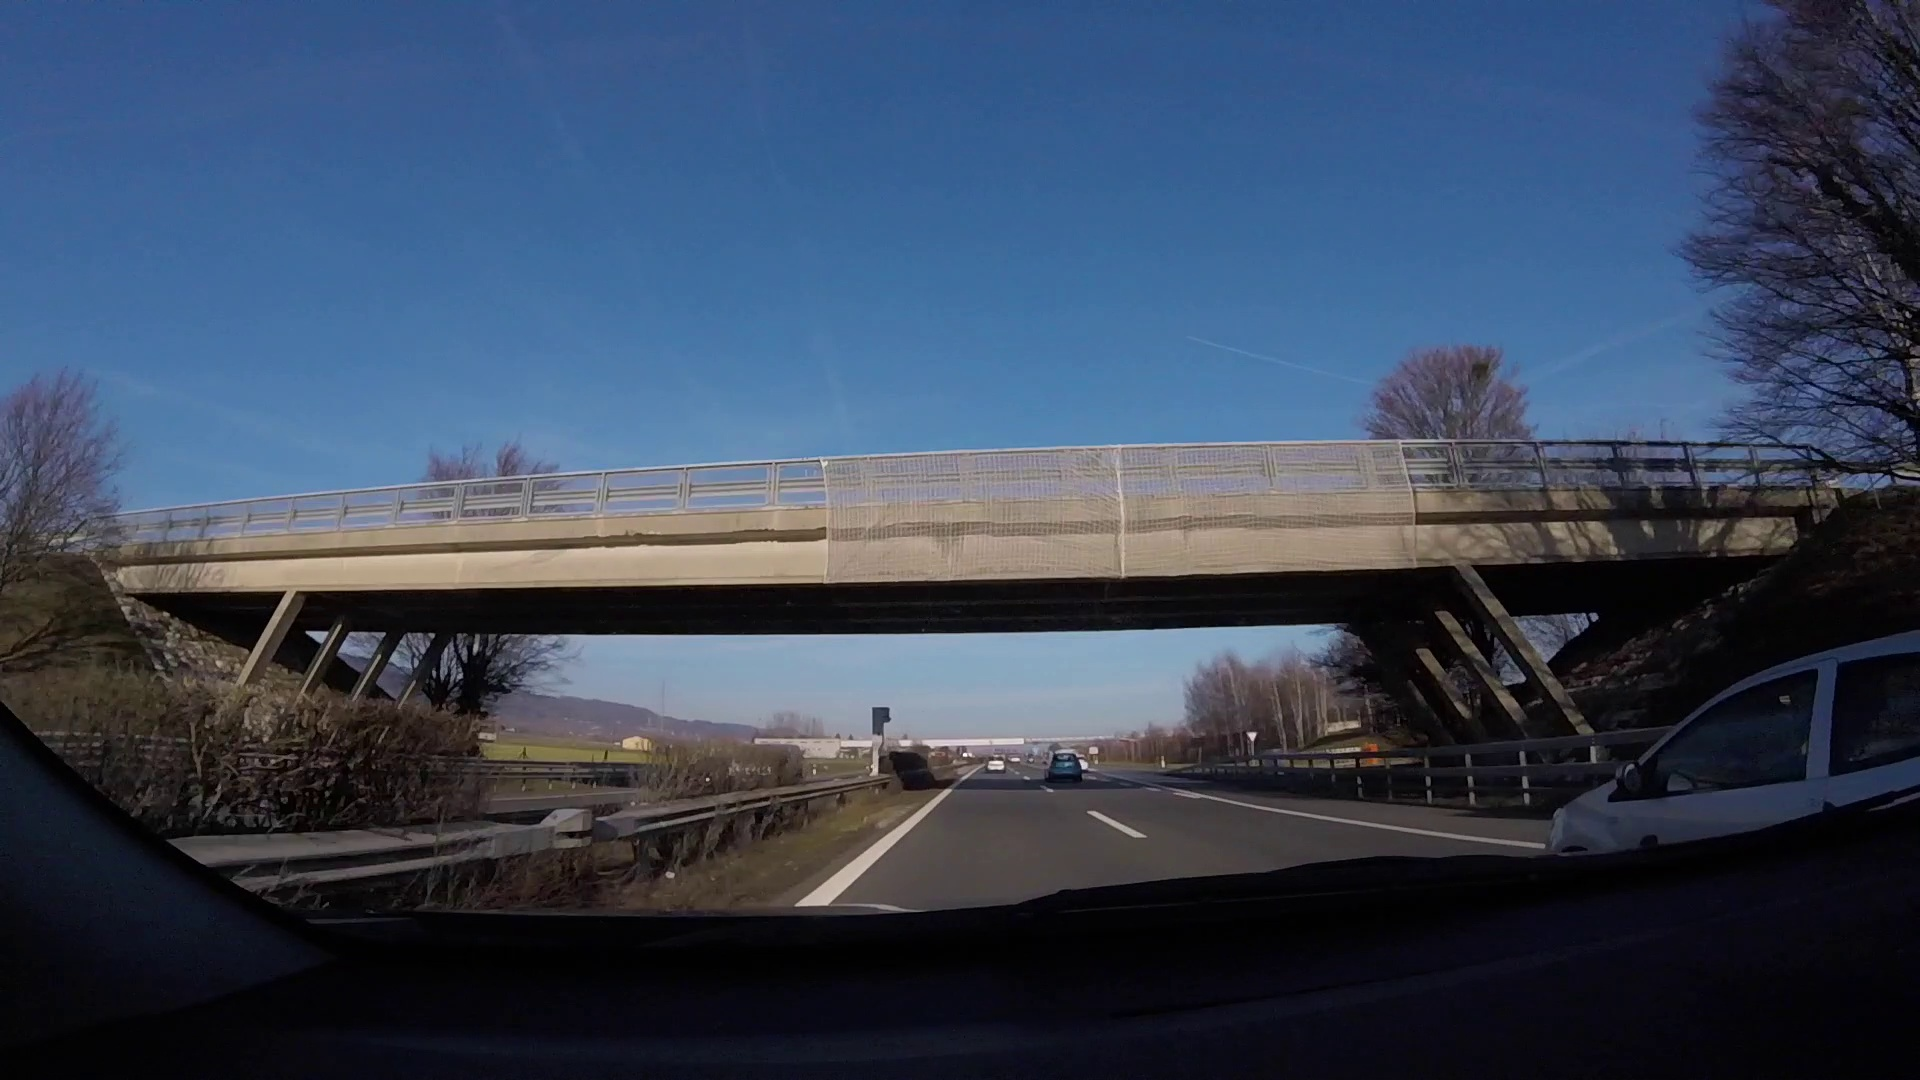radar: (868, 705, 895, 779)
